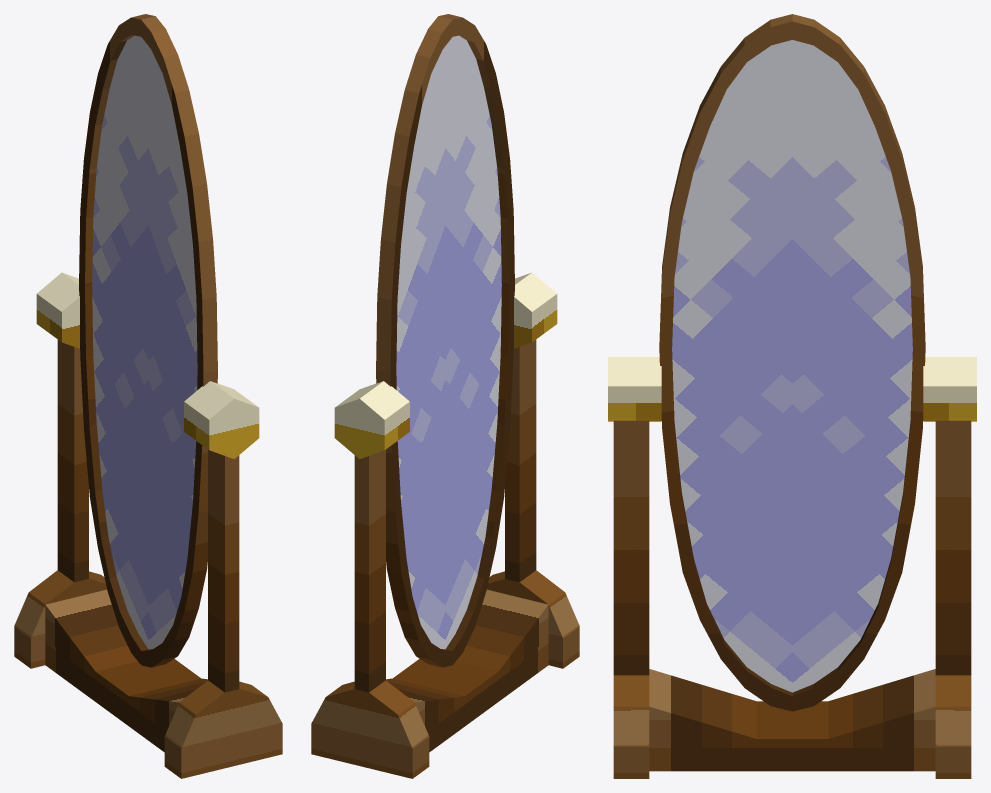
File: mirror_268x00.gltf
3 renders of one model, left to right at view 1: azimuth 30°, elevation 25°; view 2: azimuth 150°, elevation 25°; view 3: azimuth 270°, elevation 25°, orthographic. The views are drawn at different scales.
Visible parts, largest first — view 1: mirror_268x00; view 2: mirror_268x00; view 3: mirror_268x00.
Boxes of the visible parts, x1,y1,x2,y2 form: mirror_268x00: [14, 14, 282, 778]; mirror_268x00: [311, 14, 579, 778]; mirror_268x00: [608, 14, 976, 778].
Size of the model in its own units: 0.7 by 4.54 by 2.06.
Materials: 1 (1 with a texture image).
